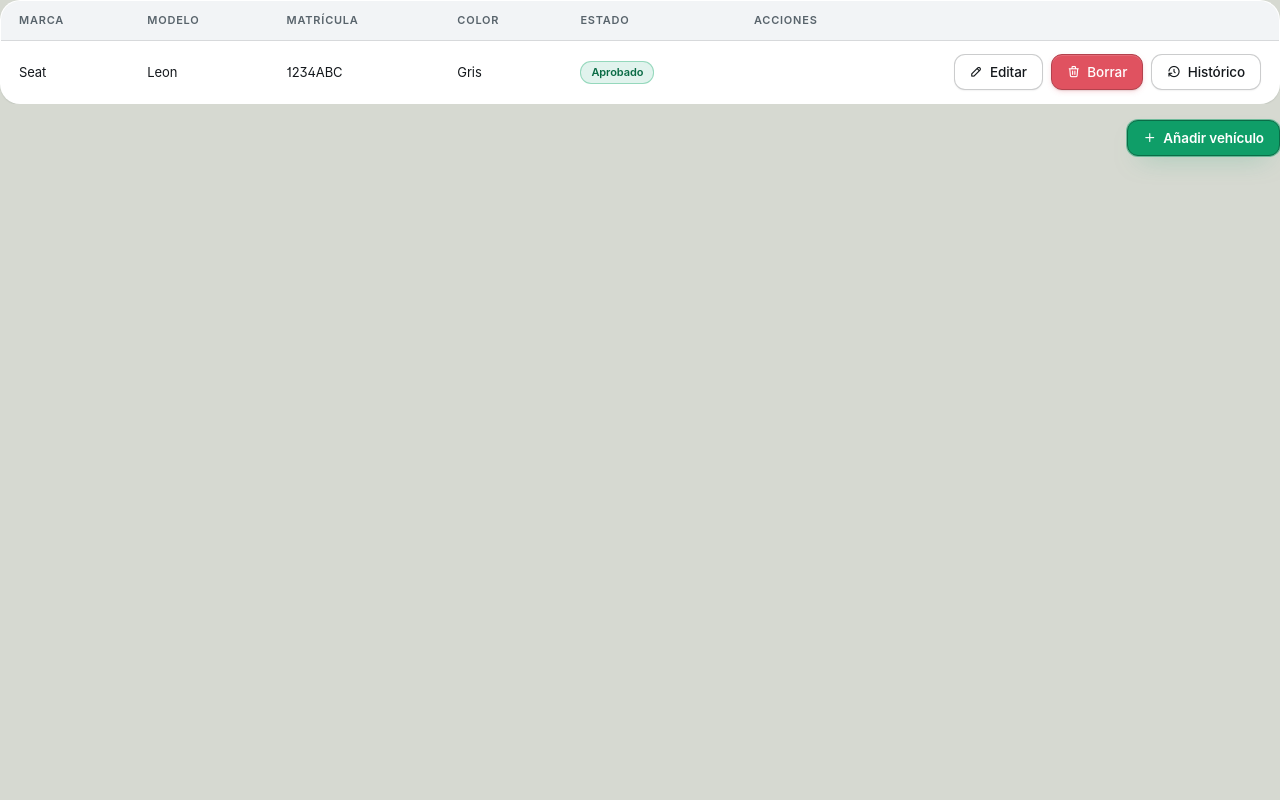
EmployeeVehiclesPanel › should_show_status_column_and_open_history
expect the text "Aprobado" is shown: met, box [580,60,654,84]
Click the button "Histórico".
click(1206, 72)  # box [1151,54,1261,90]
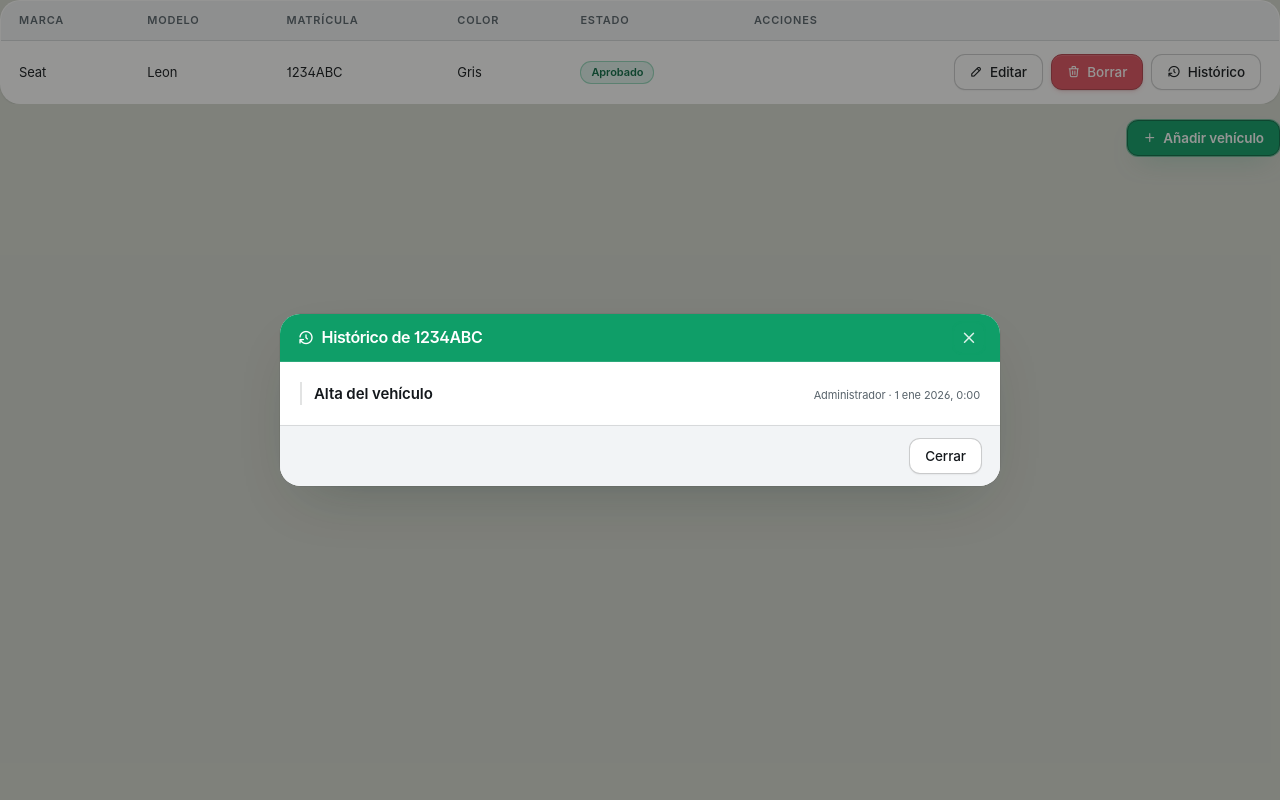
expect the text "Alta del vehículo" is shown: met, box [314,382,433,405]
